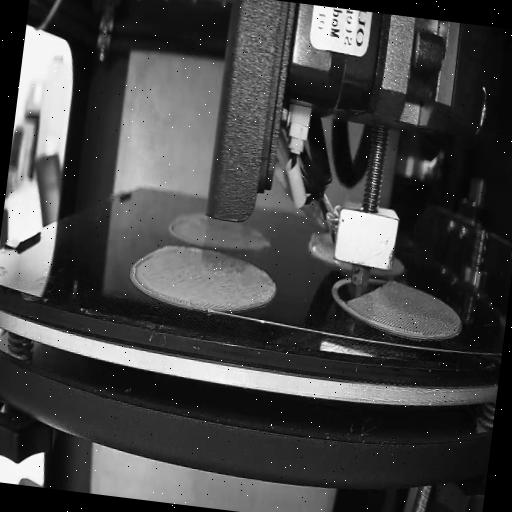over_extrusion: (126, 246, 154, 299)
